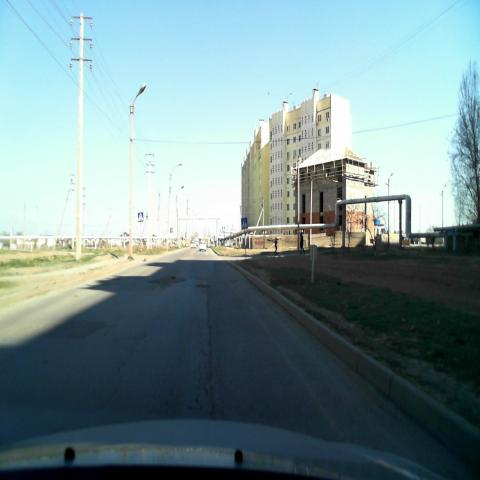5_19_1: (242, 217, 248, 229), (138, 211, 144, 221)
